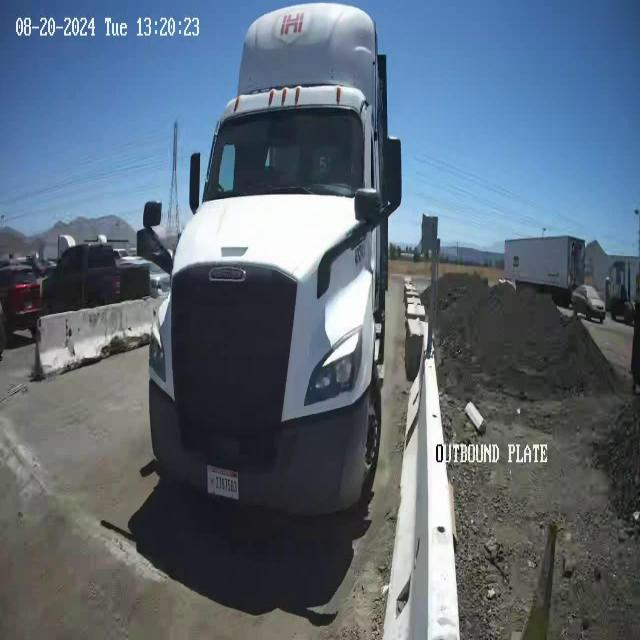TRUCK_OUT: (138, 2, 402, 520)
